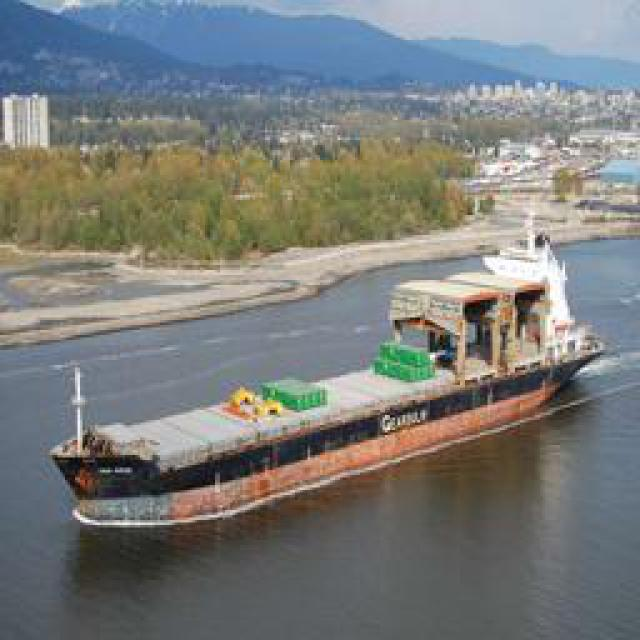Ship: (65, 239, 608, 549)
